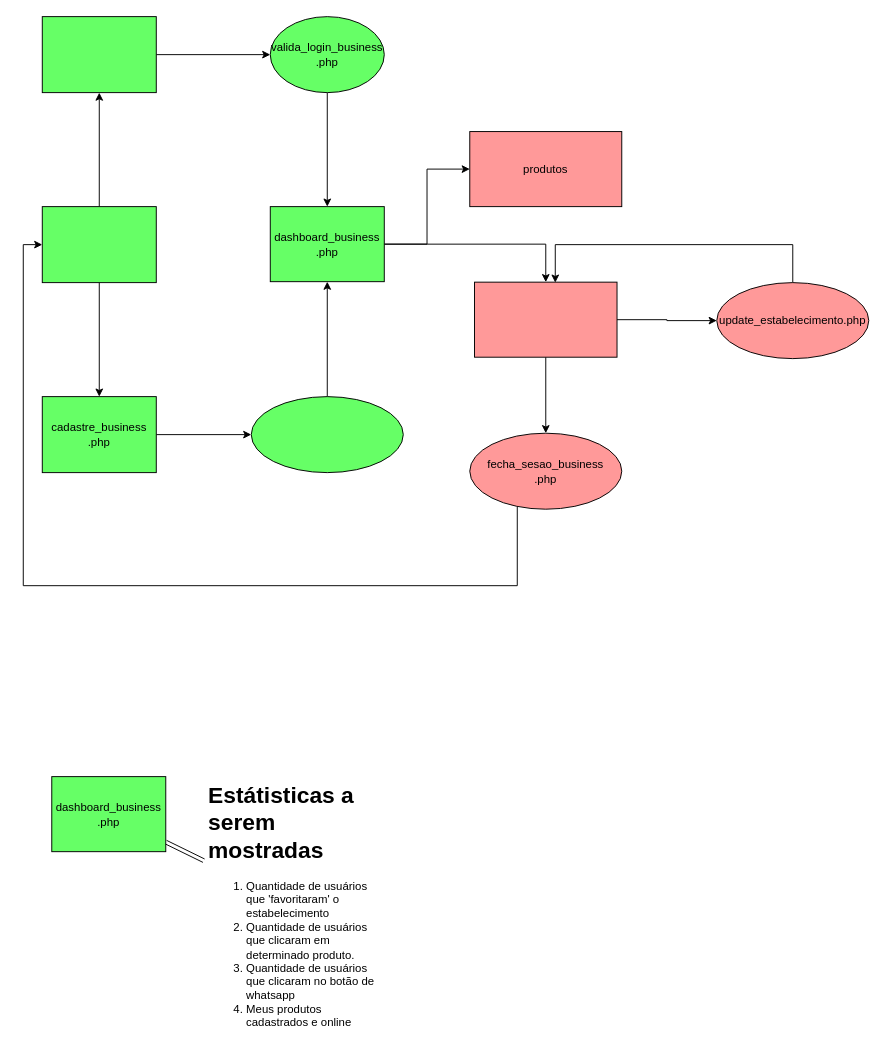
Image size: 885x1050. Some labels were removed from this diagram. The shapes that lost their labels are listed below. From the top down, each one's box as (x1, y1, x2, y2) in pixels, then its label:
(41, 16, 156, 93): entre_business.php
(41, 206, 156, 283): index.php
(474, 281, 617, 357): perfil_estabelecimento.php
(250, 396, 403, 473): insere_estabelecimento.php
